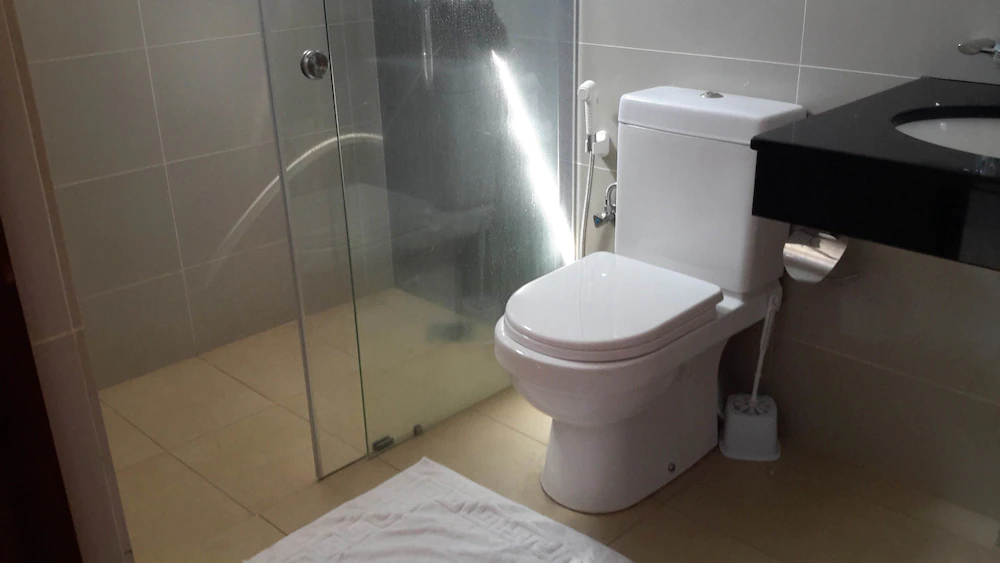countertop: (748, 70, 1000, 220)
faucet: (955, 24, 1000, 70)
sink: (894, 75, 1000, 155)
toilet: (494, 87, 809, 525)
toilet_handle: (695, 88, 731, 104)
